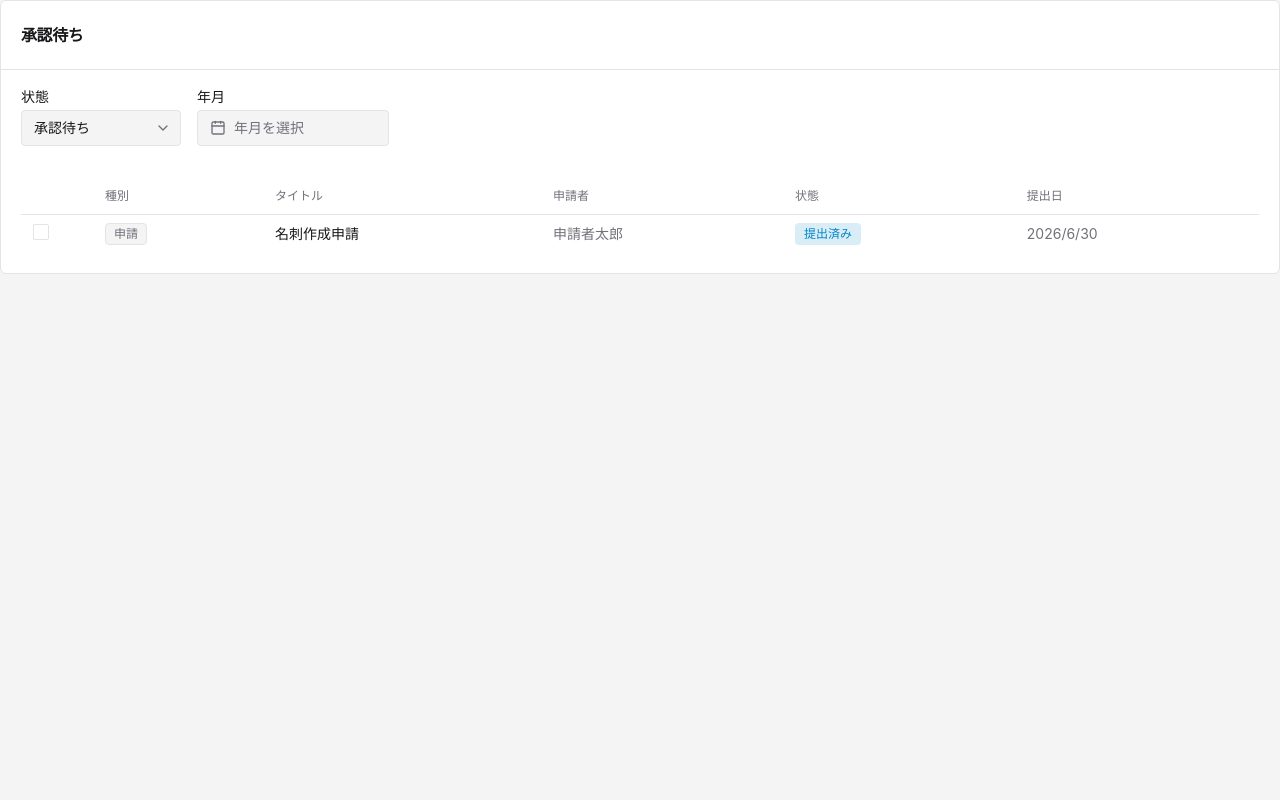
ApprovalsPage › clears selection when the year-month filter changes
Expected: the button "名刺作成申請" is shown, 275,224 -> 359,244
What coordinates should you click on to do the following:
click the checkbox named "名刺作成申請を選択"
I would click on:
 (41, 232)
Its box is 33,224 -> 49,240.
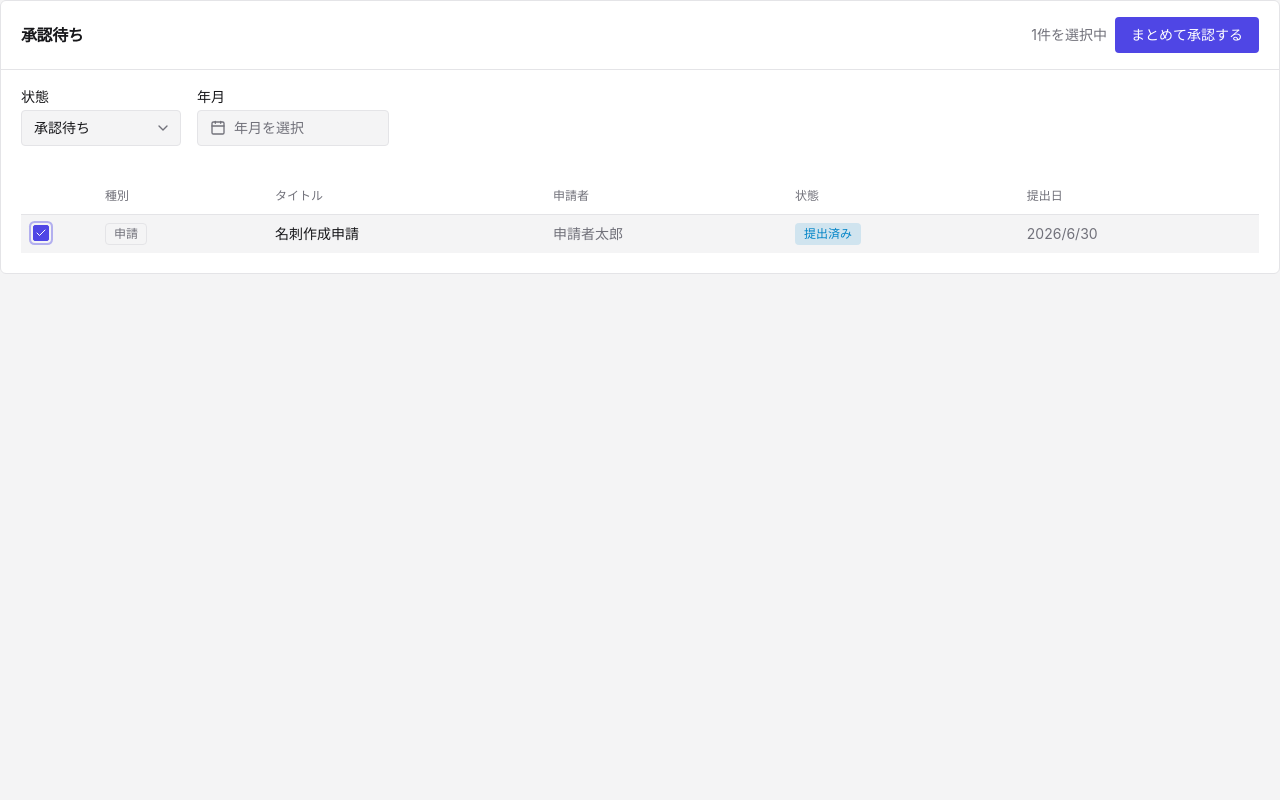
Expected: the text "1件を選択中" is shown, 1031,25 -> 1107,45
What coordinates should you click on to do the following:
click the button "年月を選択"
I would click on:
 (293, 128)
Its box is 197,110 -> 389,146.
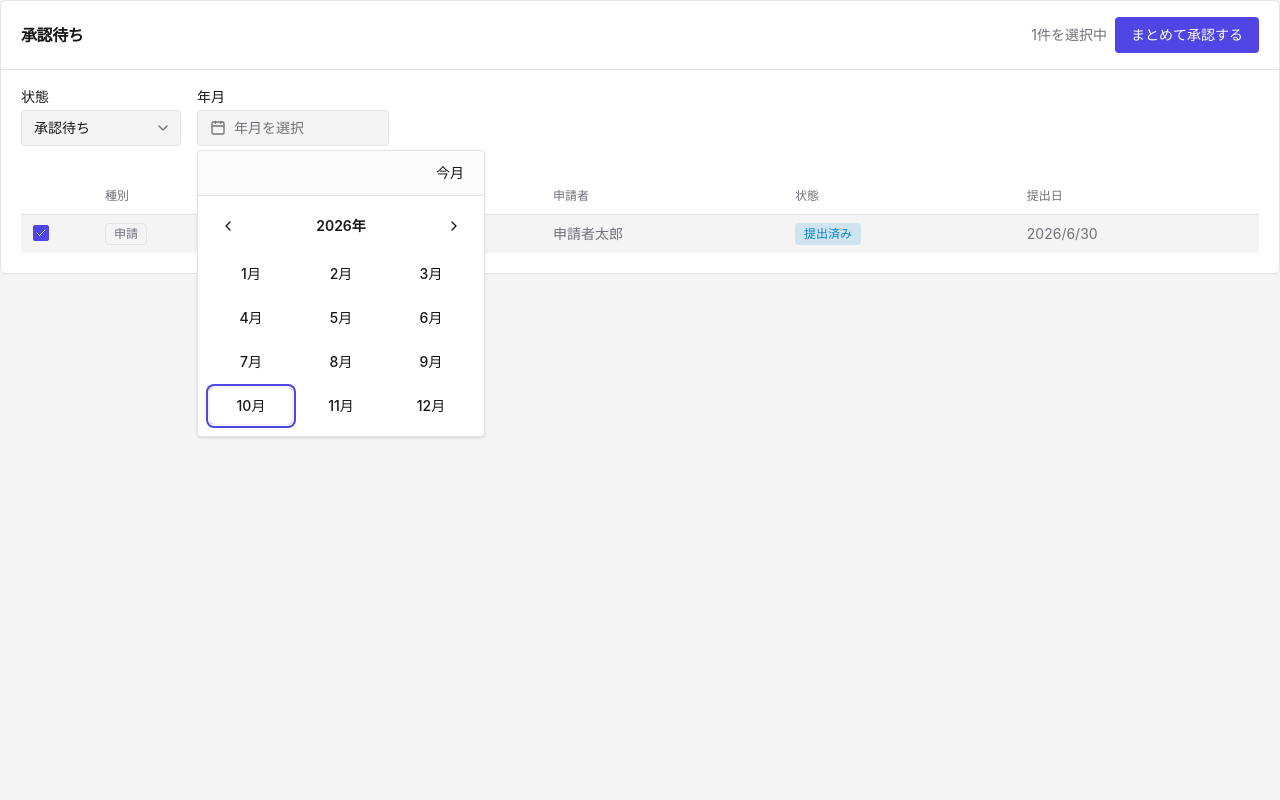
What coordinates should you click on to do the following:
click the button "今月"
I would click on:
 (450, 173)
Its box is 424,157 -> 476,189.
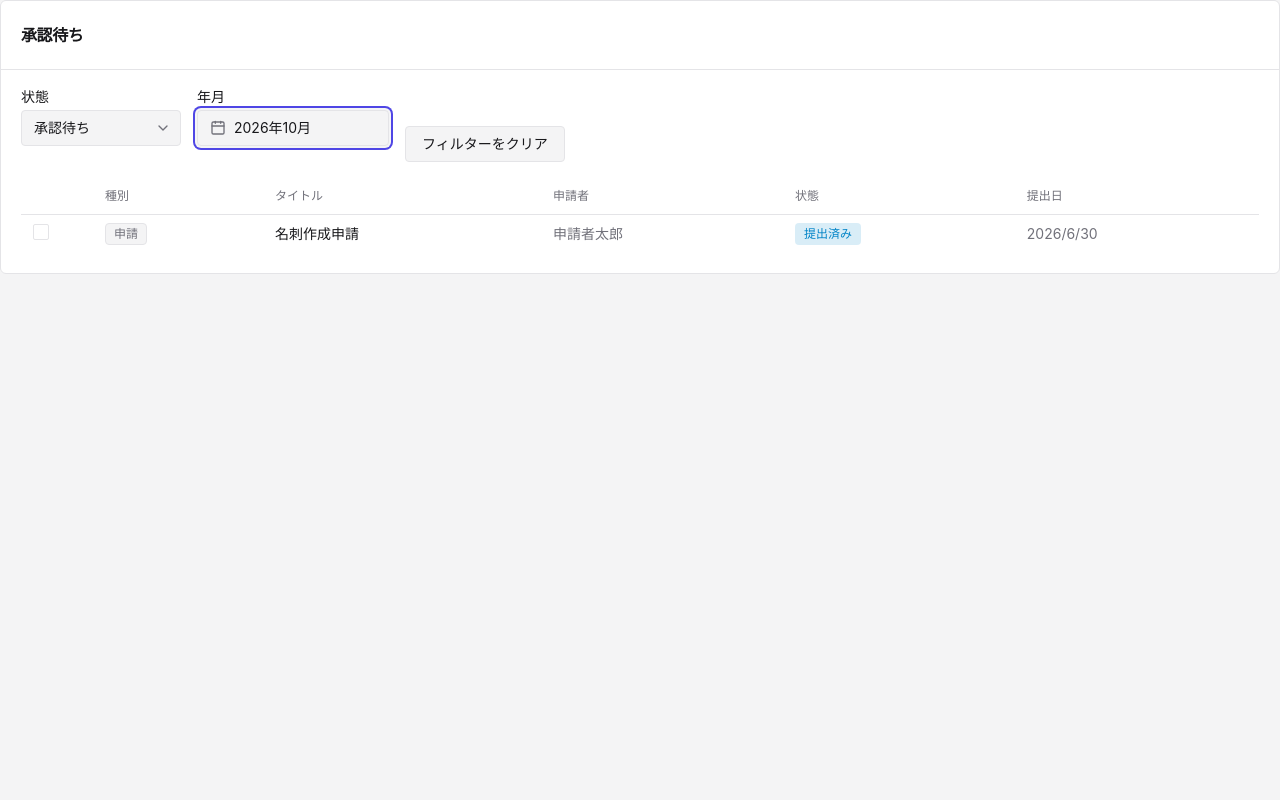
Expected: the text "1件を選択中" is gone
